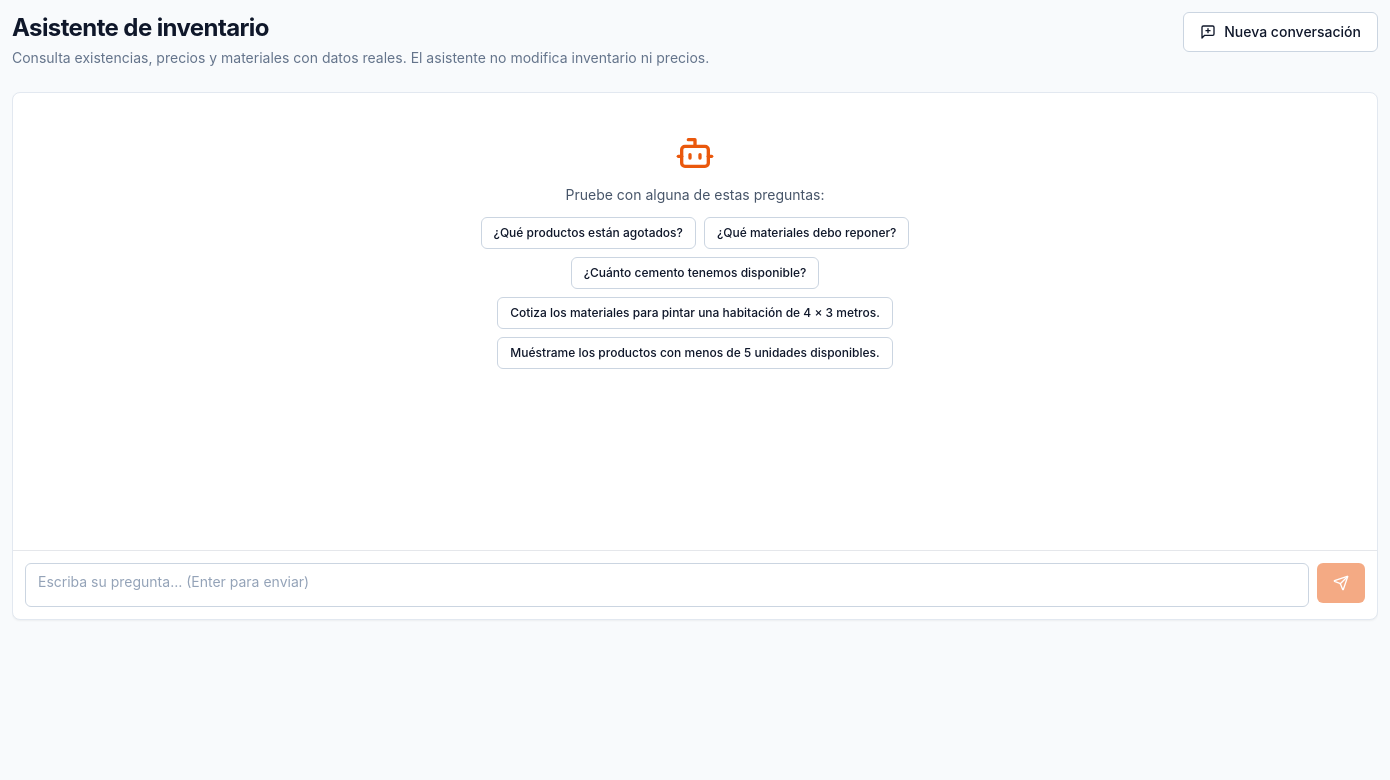
Test: Flujo del asistente › envía la pregunta, muestra la respuesta verificada y las tarjetas de productos
The image size is (1390, 780).
Click the button "¿Qué productos están agotados?" at [588, 233], box [481, 217, 696, 249]
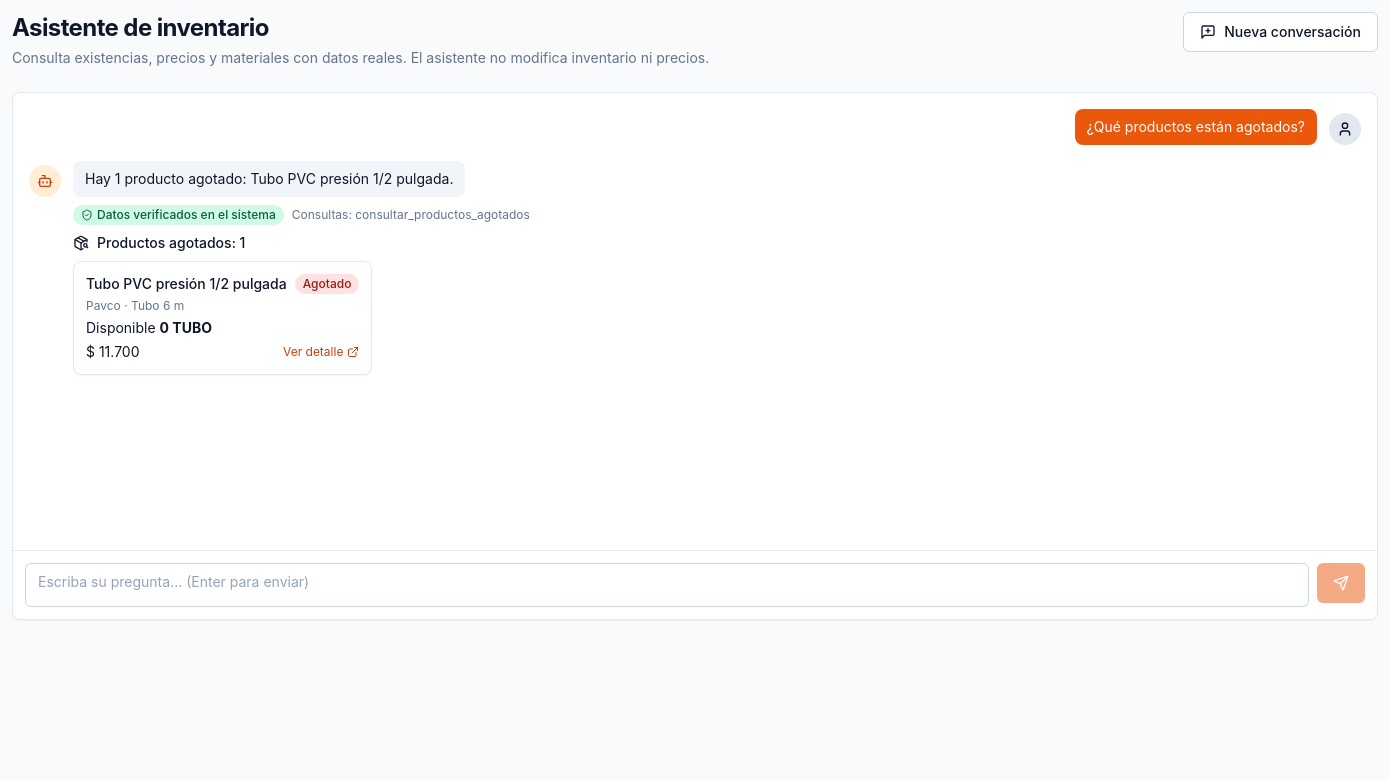
Expected: the text "Hay 1 producto agotado: Tubo PVC presión 1/2 pulgada." is shown, [73, 161, 465, 197]
Expected: the text "Datos verificados en el sistema" is shown, [73, 205, 284, 225]
